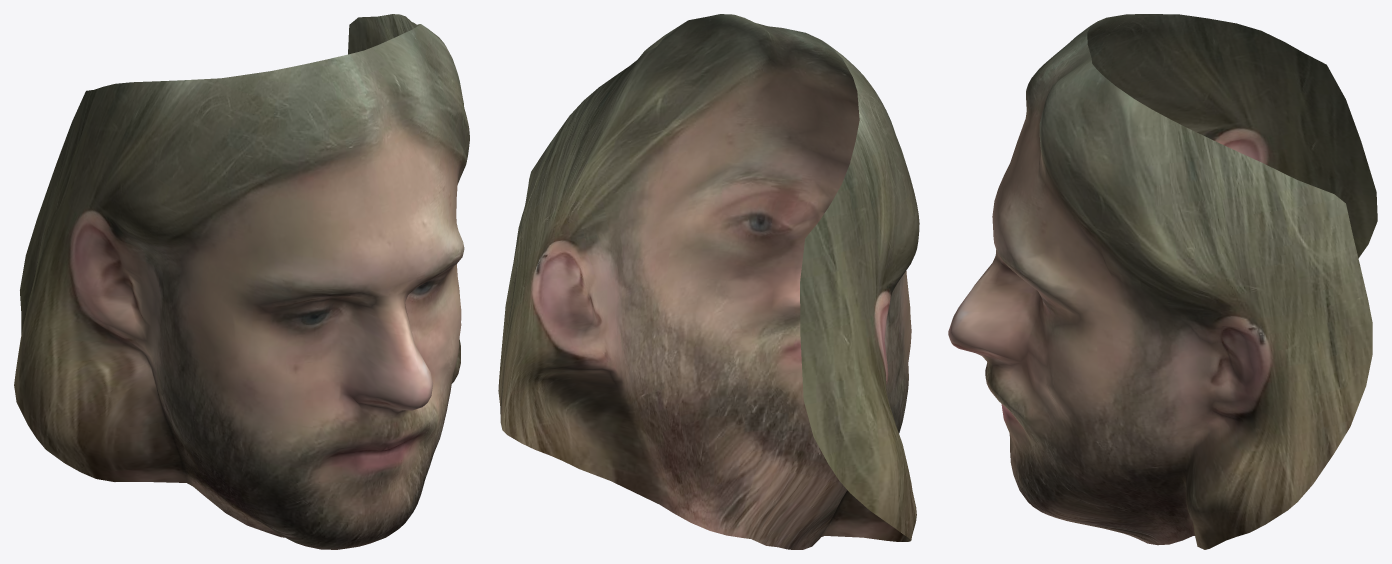
The model's file is headScanLow.glb.
The picture shows the model from 3 angles, left to right: view 1: azimuth 30°, elevation 25°; view 2: azimuth 150°, elevation 25°; view 3: azimuth 270°, elevation 25°; orthographic projection. The views are drawn at different scales.
Visible parts, largest first — view 1: Node; view 2: Node; view 3: Node.
Part boxes in pixels (x1,y1,x2,y2): Node: (14, 14, 469, 549); Node: (498, 14, 919, 549); Node: (948, 14, 1377, 549).
Bounding box in the file's own units: 219 × 261 × 203.
Materials: 1 (1 with a texture image).
